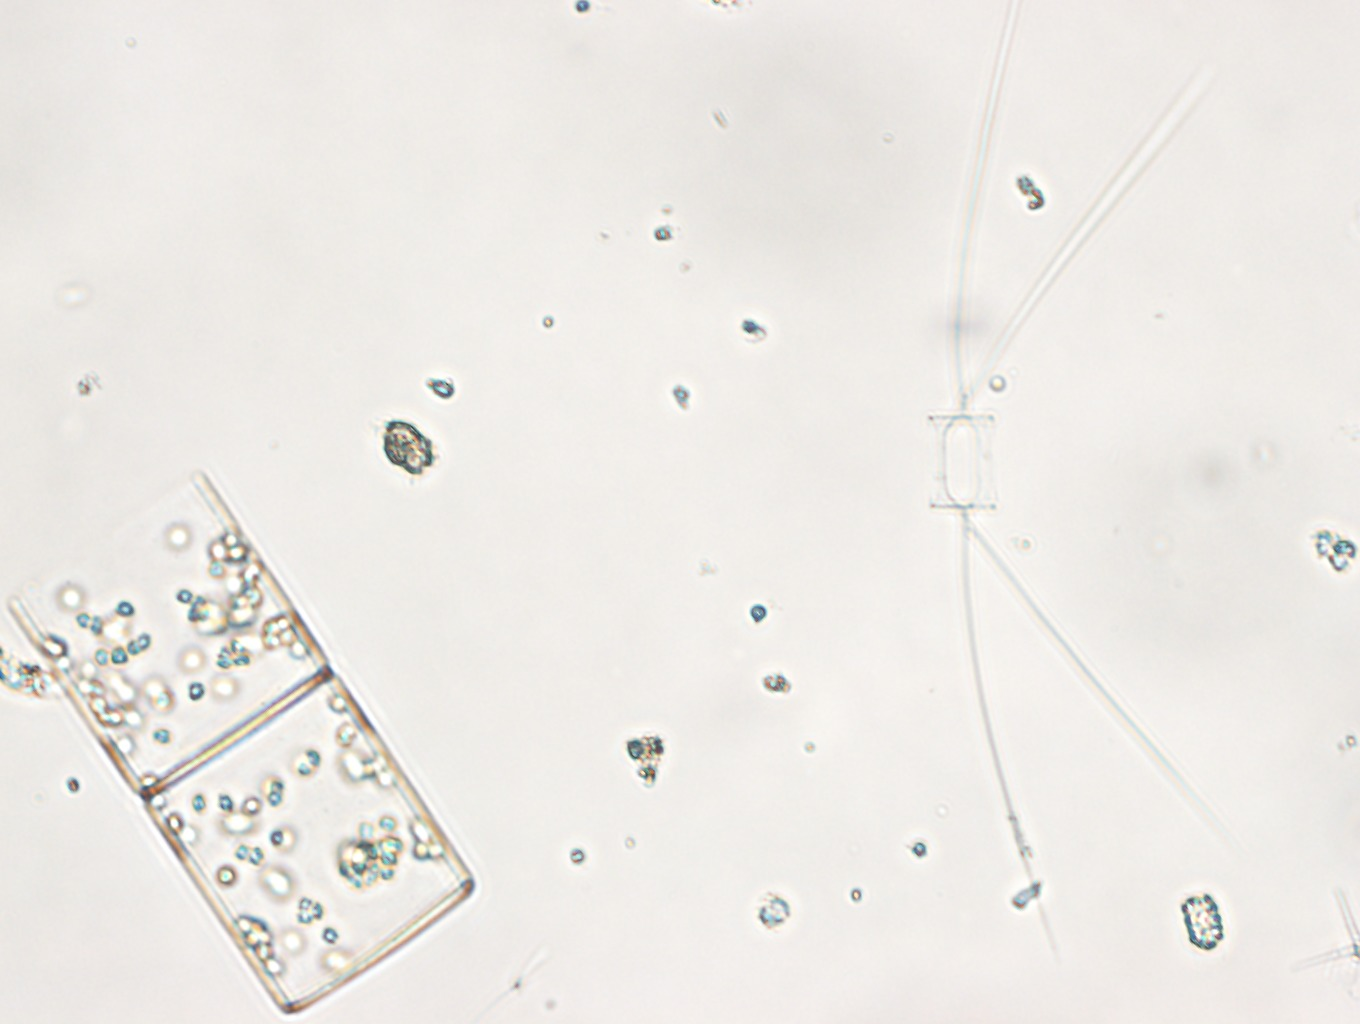chaetoceros: (924, 1, 1233, 952)
guinardia flaccida: (5, 466, 477, 1013)
